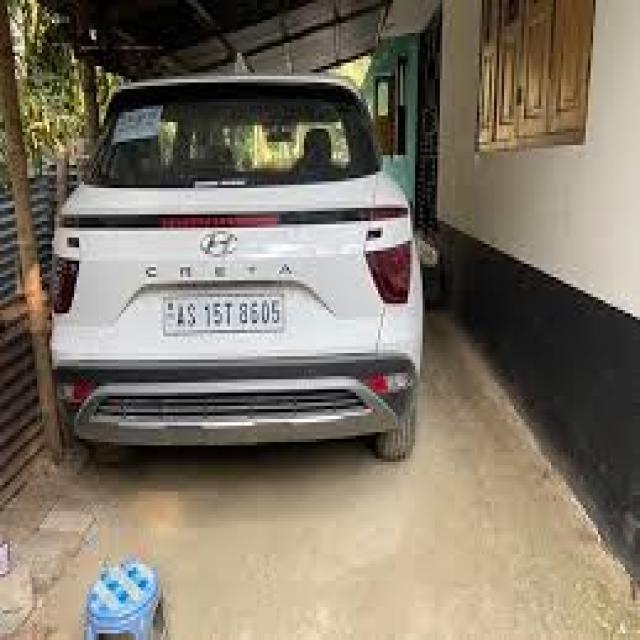SUV: (51, 70, 425, 468)
